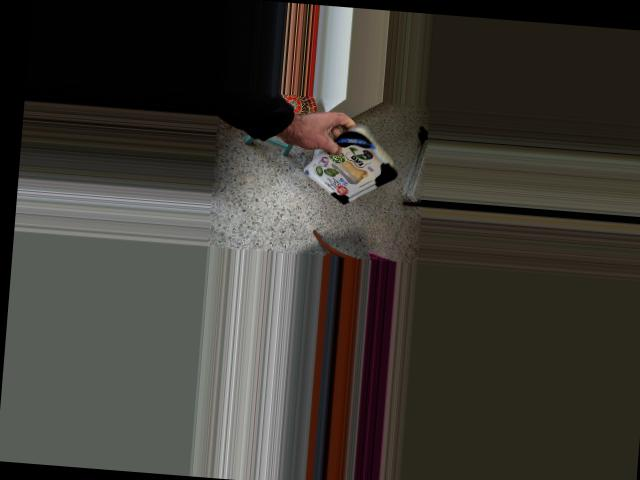cheese: (315, 105, 399, 216)
